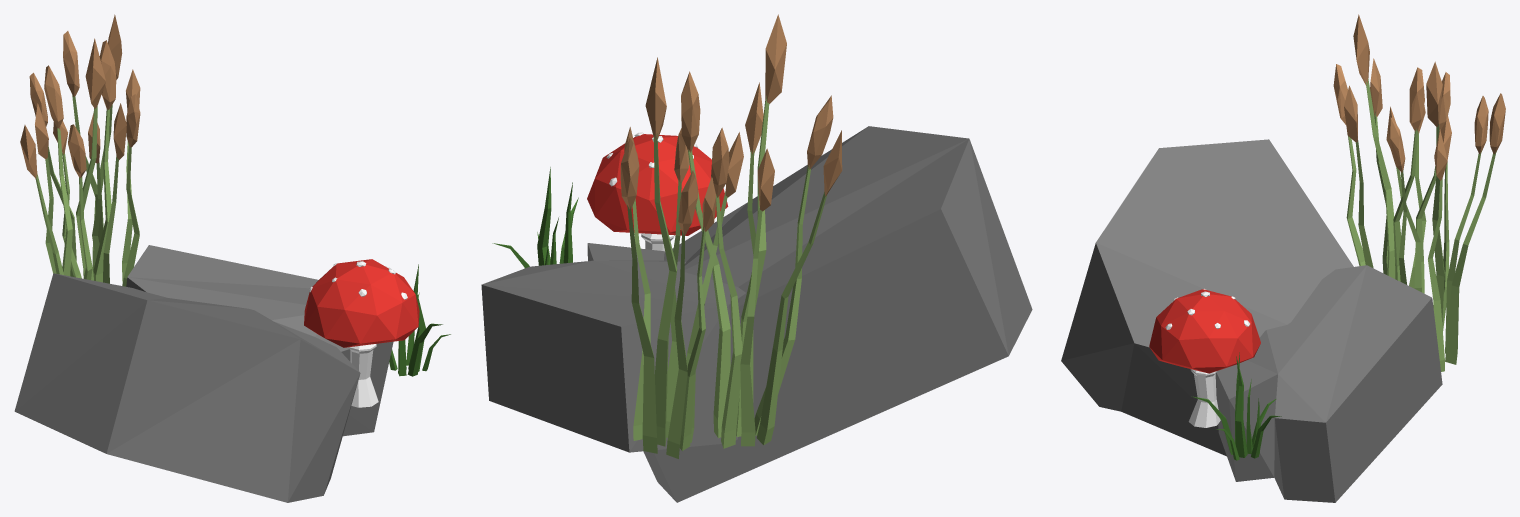
The picture shows the model from 3 angles, left to right: view 1: azimuth 30°, elevation 25°; view 2: azimuth 150°, elevation 25°; view 3: azimuth 270°, elevation 25°; orthographic projection. The views are drawn at different scales.
Parts seen in each view (by area): view 1: Mushrooms_grass3.001; view 2: Mushrooms_grass3.001; view 3: Mushrooms_grass3.001.
Part boxes in pixels (left/top/right/bottom): Mushrooms_grass3.001: left=14, top=14, right=450, bottom=502; Mushrooms_grass3.001: left=481, top=14, right=1032, bottom=502; Mushrooms_grass3.001: left=1061, top=14, right=1505, bottom=502.
Size of the model in its own units: 153 by 149 by 150.
